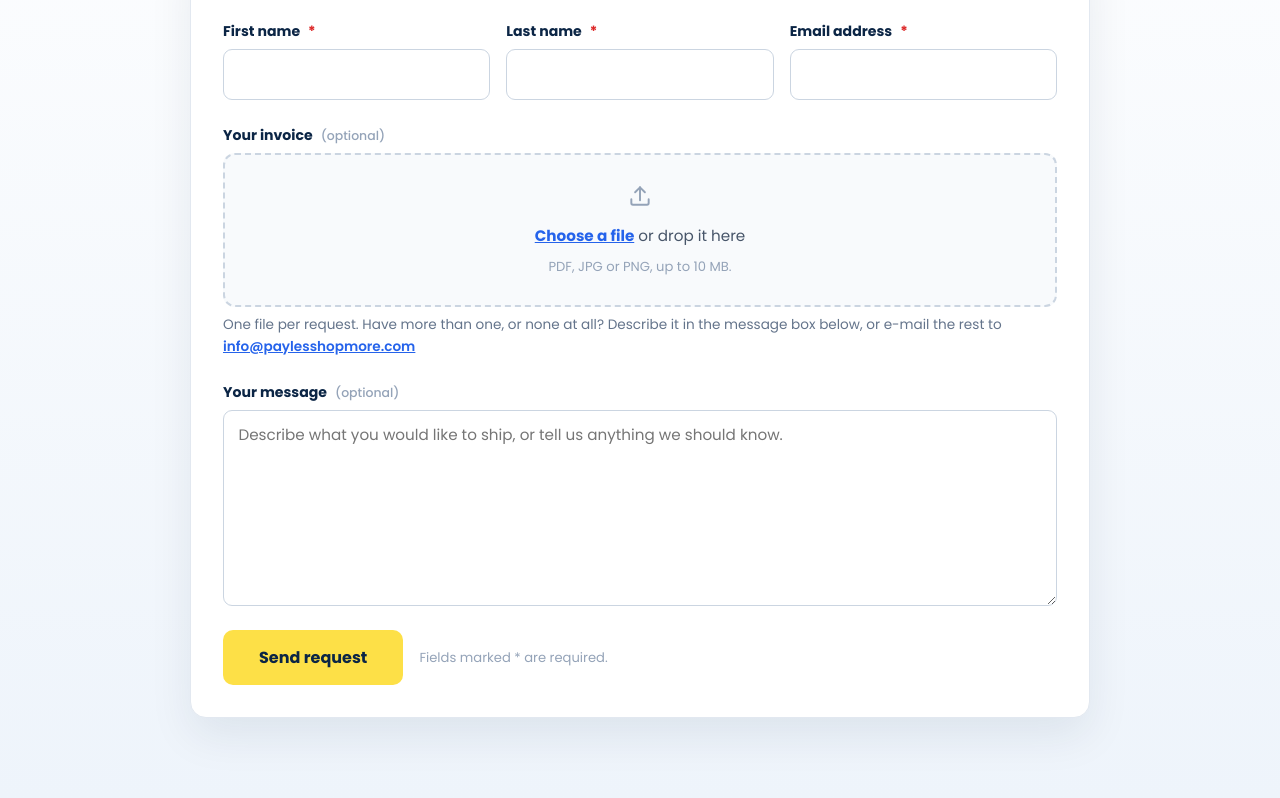
QuoteForm › will not send an empty form, and says which fields are missing
This screenshot has width=1280, height=798.
(page scrolled)
Click the button "Send request": point(313, 658) [223,630,403,685]
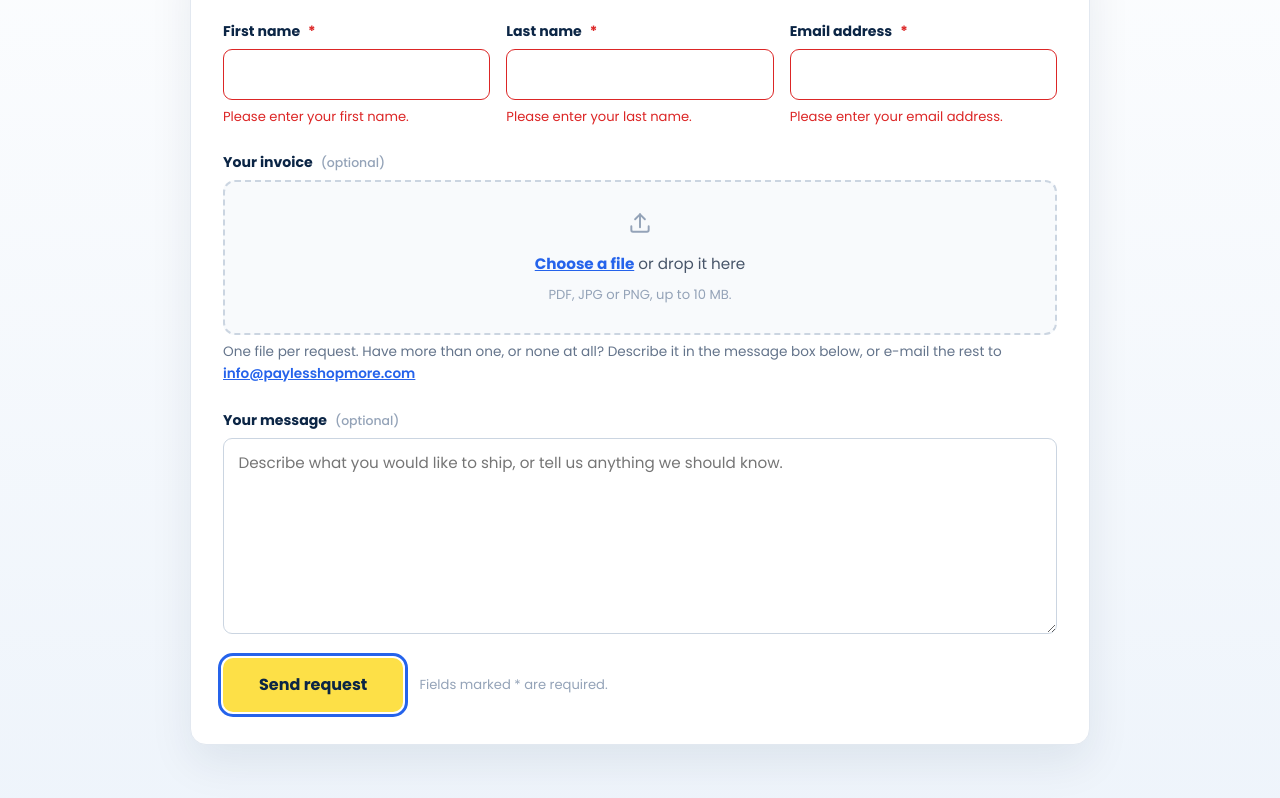
Check: the text "Please enter your first name." is shown, box [223,107,409,126]
Check: the text "Please enter your last name." is shown, box [506,107,692,126]
Check: the text "Please enter your email address." is shown, box [790,107,1003,126]
